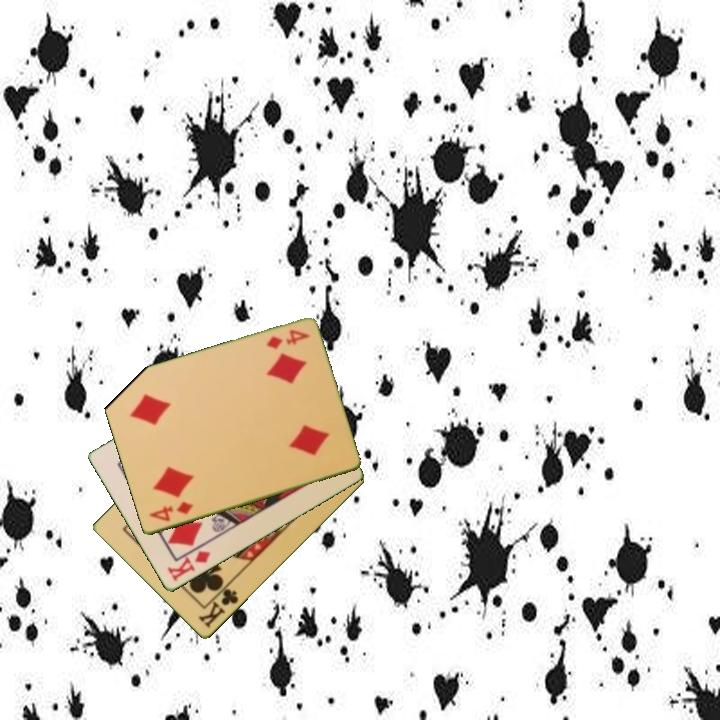4d: (146, 498, 197, 525), (263, 326, 313, 352)
Kc: (195, 580, 241, 632)
Kd: (163, 547, 214, 585)
